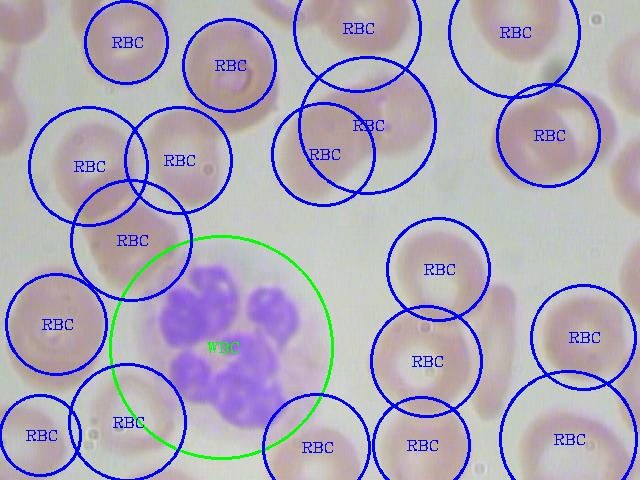RBC: (1, 277, 113, 393), (176, 12, 286, 129), (360, 307, 475, 414), (388, 222, 495, 324), (46, 116, 144, 221), (83, 198, 187, 291), (508, 400, 632, 478), (137, 103, 230, 205), (275, 100, 367, 203), (525, 80, 623, 173), (345, 62, 441, 156), (483, 98, 581, 190), (83, 368, 183, 458), (536, 288, 631, 382), (77, 0, 174, 87), (375, 403, 476, 478), (260, 419, 368, 478), (469, 0, 567, 63), (316, 0, 420, 57), (1, 397, 73, 478)
WBC: (122, 252, 354, 447)
